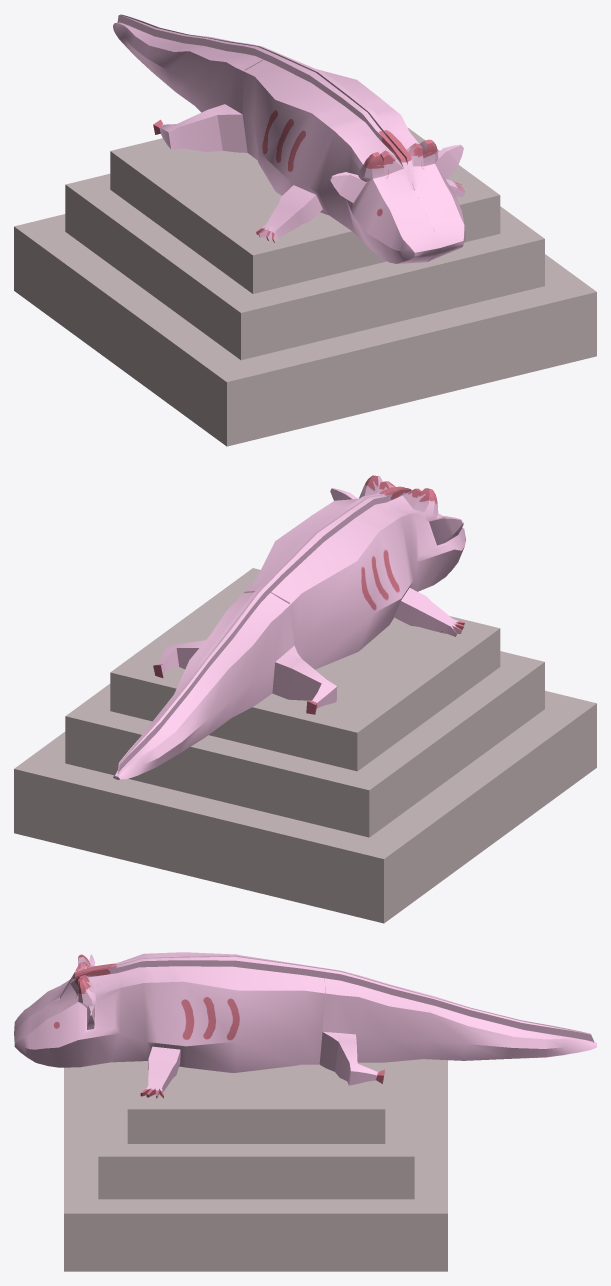
The model's file is axolotl.obj.
3 renders of one model, top to bottom at view 1: azimuth 30°, elevation 25°; view 2: azimuth 150°, elevation 25°; view 3: azimuth 270°, elevation 25°, orthographic. The views are drawn at different scales.
Parts seen in each view (by area): view 1: Axolote; view 2: Axolote; view 3: Axolote.
Part boxes in pixels (x1,y1,x2,y2): Axolote: (14, 14, 596, 446); Axolote: (14, 475, 596, 923); Axolote: (14, 952, 596, 1271).
Bounding box in the file's own units: 7.23 × 4.84 × 10.94.
2 materials, 2 textured.
